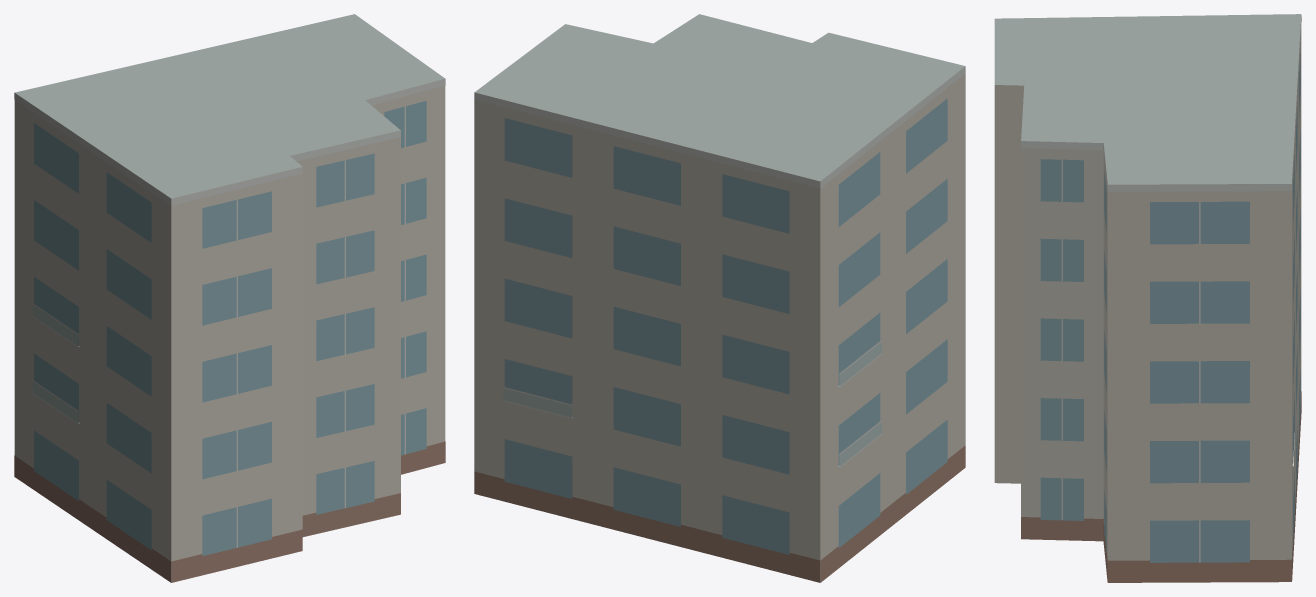
File: survey-upis-32986179.glb
3 renders of one model, left to right at view 1: azimuth 30°, elevation 25°; view 2: azimuth 150°, elevation 25°; view 3: azimuth 270°, elevation 25°, orthographic. The views are drawn at different scales.
Visible parts, largest first — view 1: survey-upis-32986179.tmp; view 2: survey-upis-32986179.tmp; view 3: survey-upis-32986179.tmp.
Part boxes in pixels (<box>): survey-upis-32986179.tmp: <box>14,14,445,582</box>; survey-upis-32986179.tmp: <box>474,14,965,582</box>; survey-upis-32986179.tmp: <box>994,14,1301,582</box>.
Size of the model in its own units: 12.42 by 13.5 by 9.44.
